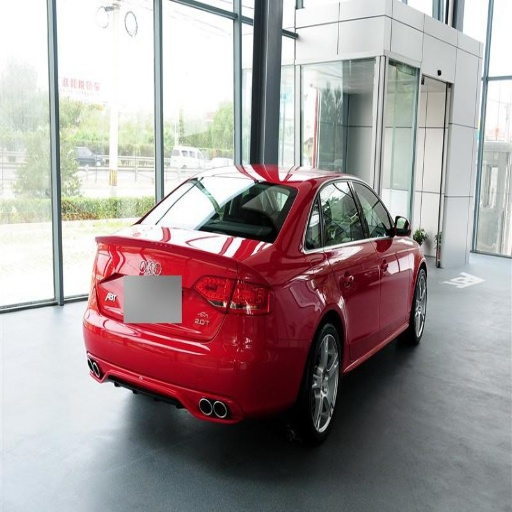_background_: (86, 309, 315, 418)
back_bumper: (169, 176, 289, 237)
back_left_light: (315, 178, 380, 355)
front_left_light: (353, 179, 413, 339)
tailgate: (93, 227, 263, 372)
trunk: (305, 320, 340, 441)
